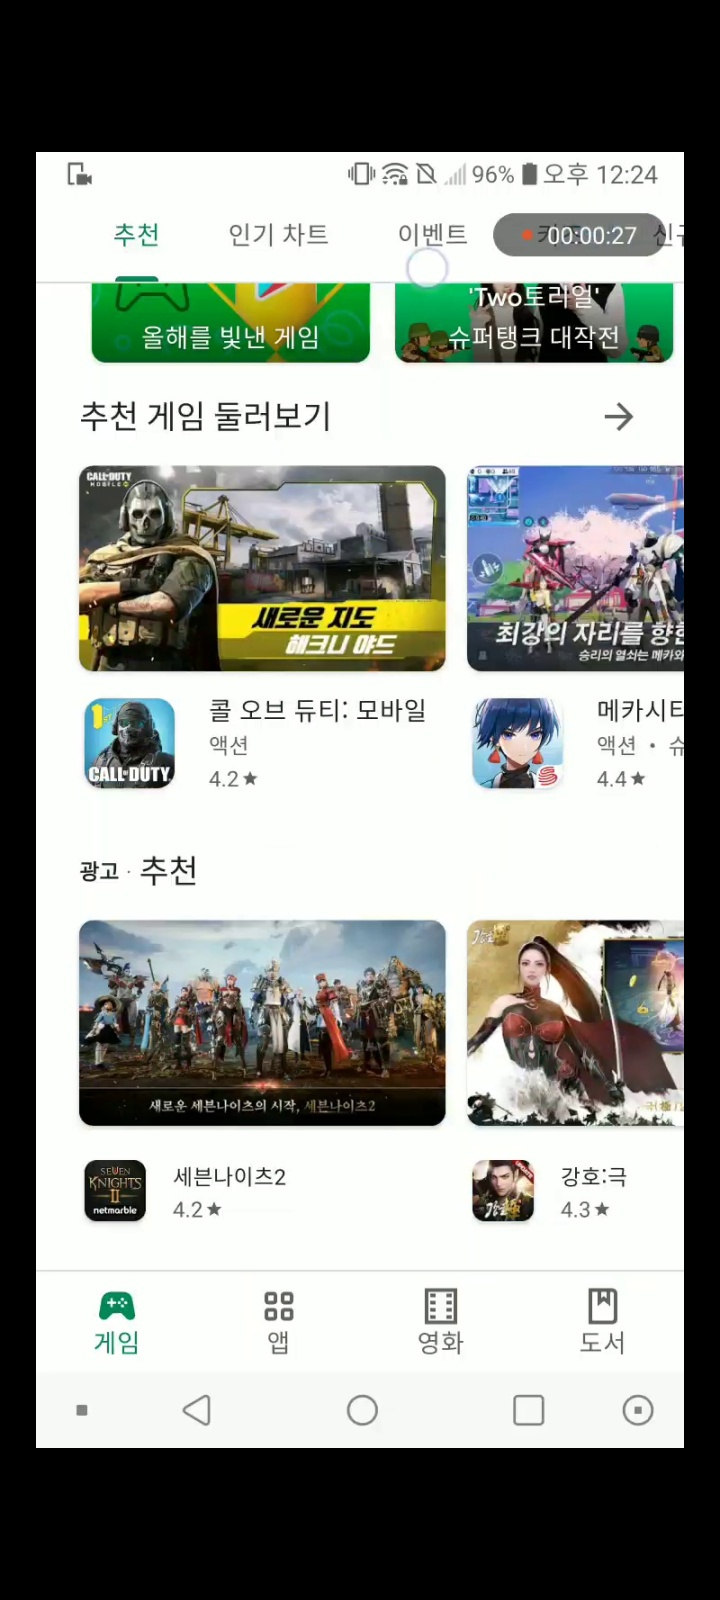Cursor: (405, 245, 450, 290)
